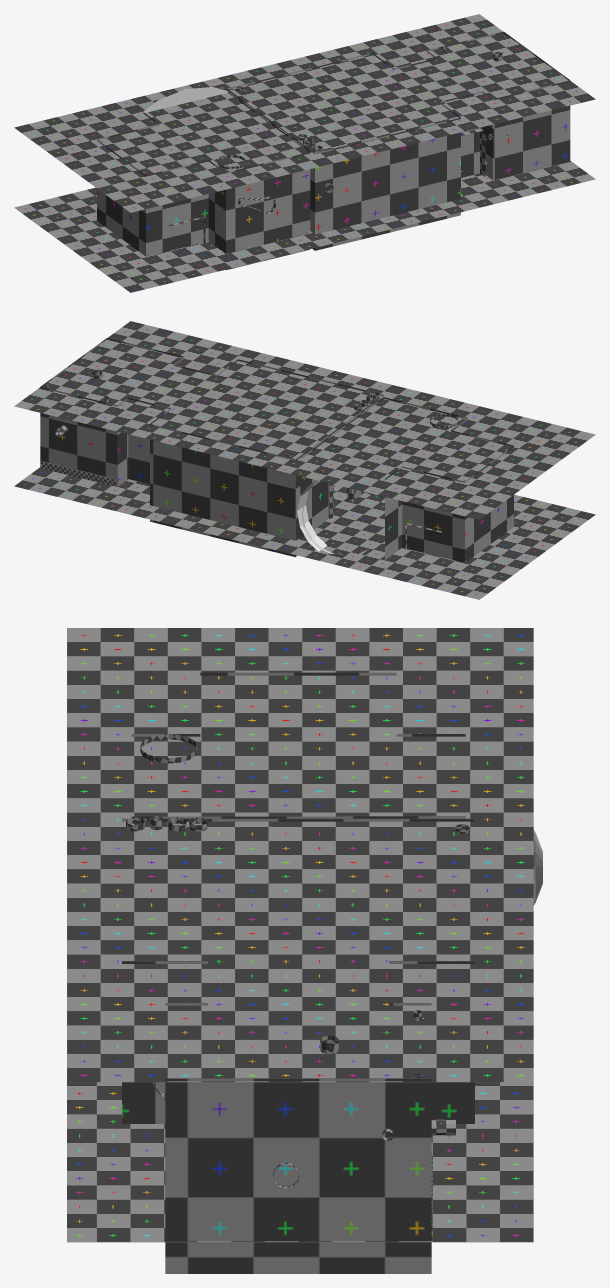
File: Submarine_.glb
3 views of the same model, one above another, from view 1: azimuth 30°, elevation 25°; view 2: azimuth 150°, elevation 25°; view 3: azimuth 270°, elevation 25° (orthographic). The views are drawn at different scales.
Parts seen in each view (by area): view 1: Ceiling, Walls, Floor, Door_WIP, Sirene; view 2: Ceiling, Walls, Floor, Door_WIP, Cube; view 3: Ceiling, Walls, Floor, Pipes.005.
Part boxes in pixels (x1,y1,x2,y2): Ceiling: [14, 14, 595, 212]; Walls: [97, 31, 570, 270]; Floor: [14, 161, 595, 292]; Door_WIP: [142, 87, 227, 113]; Sirene: [217, 154, 276, 213]; Ceiling: [14, 321, 595, 519]; Walls: [40, 338, 513, 562]; Floor: [14, 467, 595, 599]; Door_WIP: [297, 480, 368, 558]; Cube: [40, 461, 116, 486]; Ceiling: [67, 628, 533, 1082]; Walls: [122, 672, 474, 1273]; Floor: [67, 1082, 533, 1242]; Pipes.005: [126, 816, 207, 831].
Bounding box in the file's own units: 36.72 × 8.83 × 16.19.
Materials: 1 (1 with a texture image).
